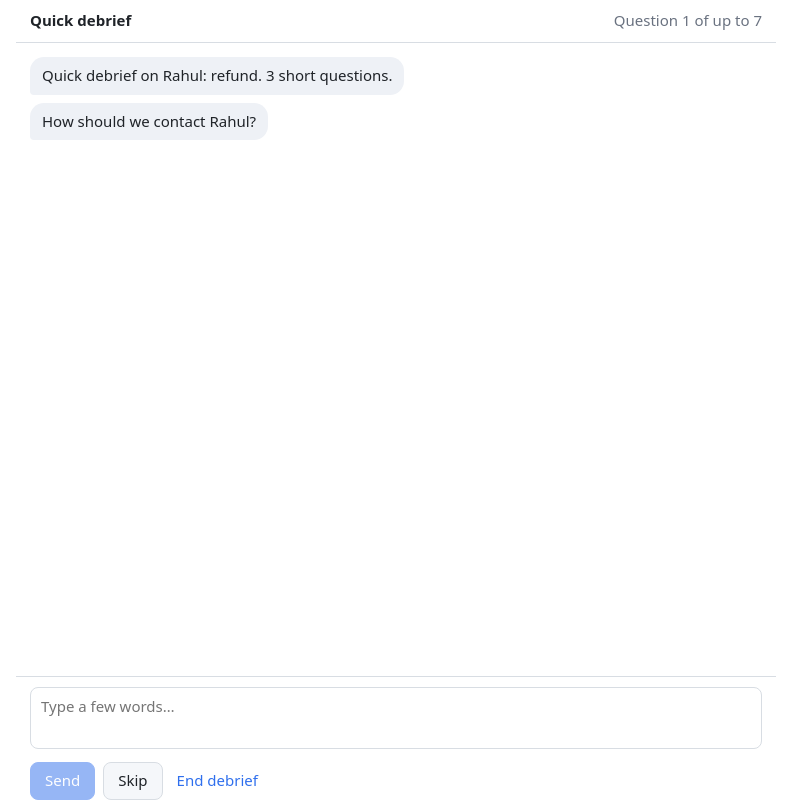
debrief conversation › keeps the typed text when sending fails, and reports the error
The width and height of the screenshot is (793, 810).
Type "important words" into the text box named "Your answer".
click(396, 718); type("important words")  # box [30, 687, 762, 748]
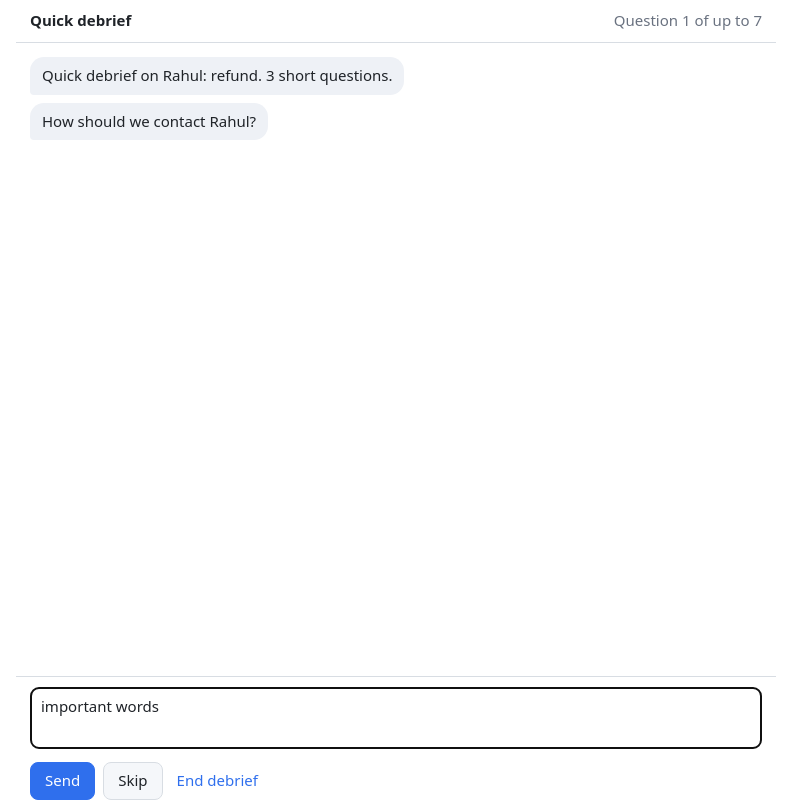
Click the button "Send".
click(63, 781)  # box [30, 762, 95, 800]
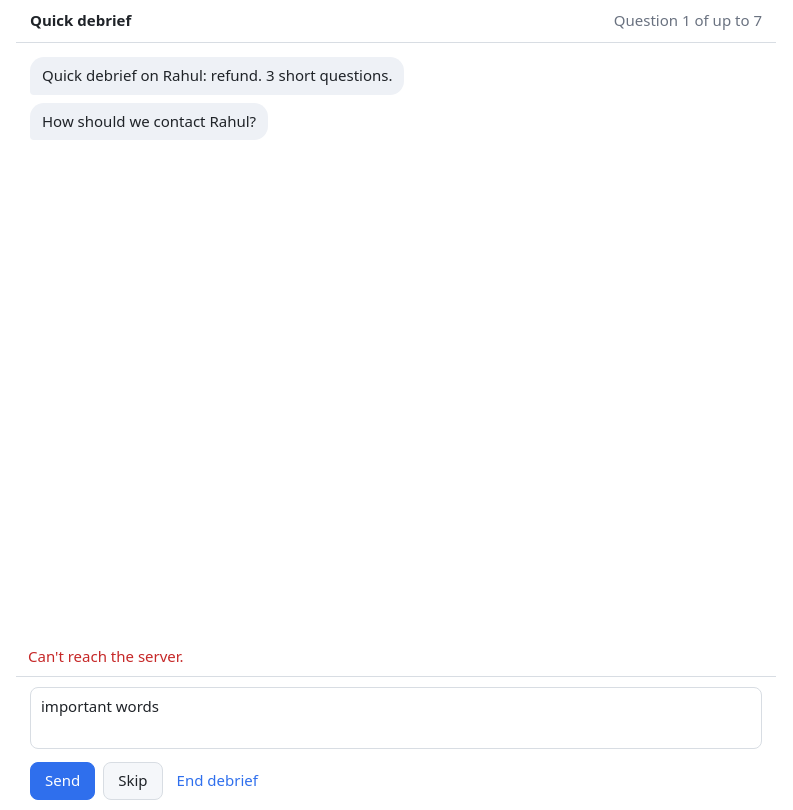
Expected: the message reads "Can't reach the server.", [28, 646, 184, 666]
